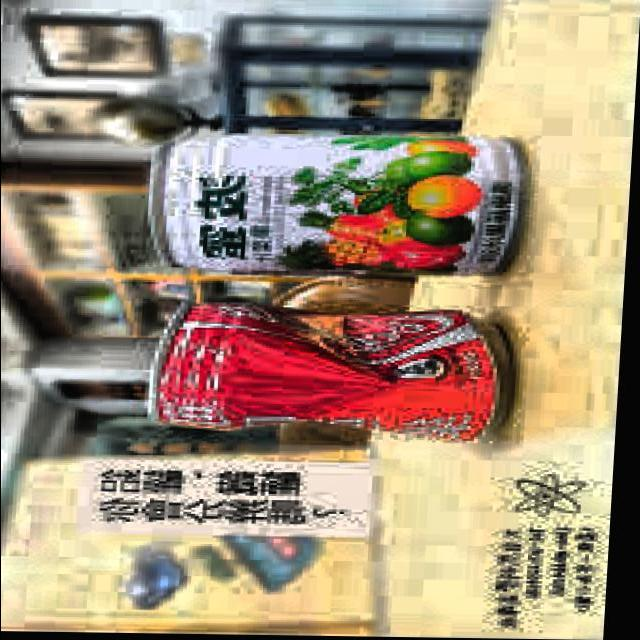litter: (140, 124, 544, 283), (133, 298, 528, 448)
